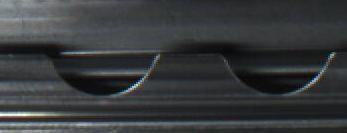twou: (56, 44, 316, 103)
